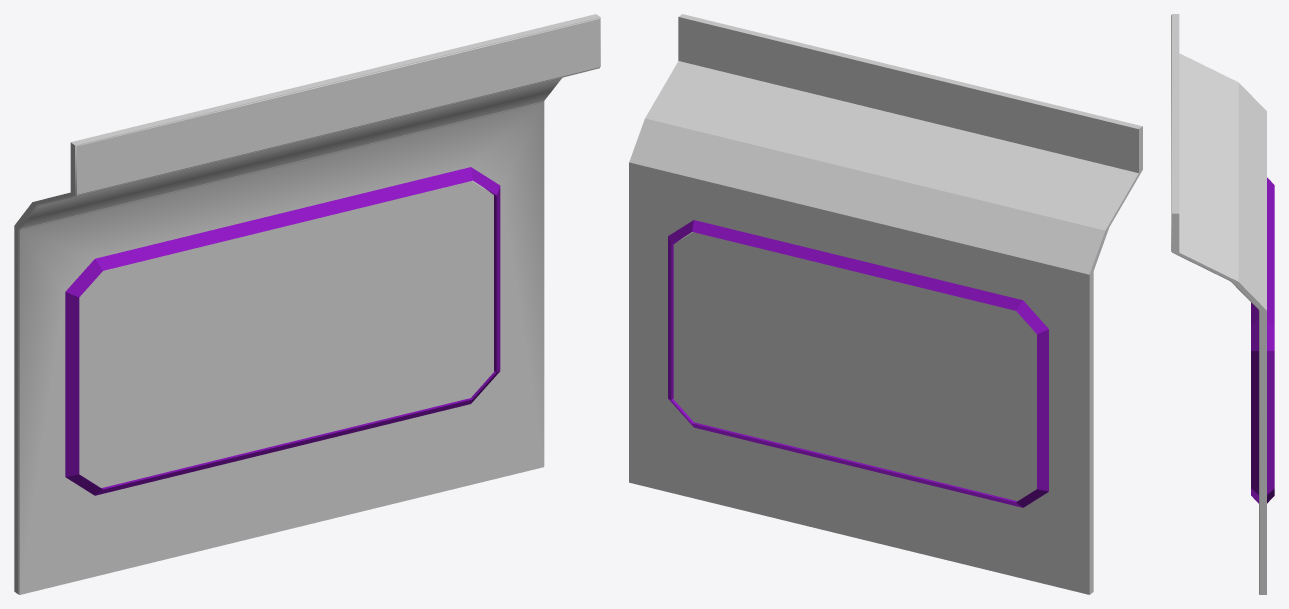
The model's file is ParedVentanaPequeña.fbx.
3 renders of one model, left to right at view 1: azimuth 30°, elevation 25°; view 2: azimuth 150°, elevation 25°; view 3: azimuth 270°, elevation 25°, orthographic. The views are drawn at different scales.
Parts seen in each view (by area): view 1: ParedPequeñaVentana, VentanaParedPequeña; view 2: ParedPequeñaVentana, VentanaParedPequeña; view 3: ParedPequeñaVentana.
Boxes of the visible parts, <box> form: ParedPequeñaVentana: <box>14,14,600,594</box>; VentanaParedPequeña: <box>79,180,493,487</box>; ParedPequeñaVentana: <box>629,14,1142,594</box>; VentanaParedPequeña: <box>673,232,1036,501</box>; ParedPequeñaVentana: <box>1171,14,1274,594</box>.
Size of the model in its own units: 6 by 5.35 by 1.31.
